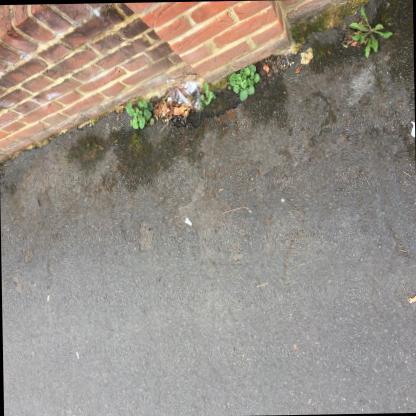Paper: (412, 293, 416, 301)
Plastic: (166, 77, 201, 109)
Waste: (185, 216, 192, 224)
